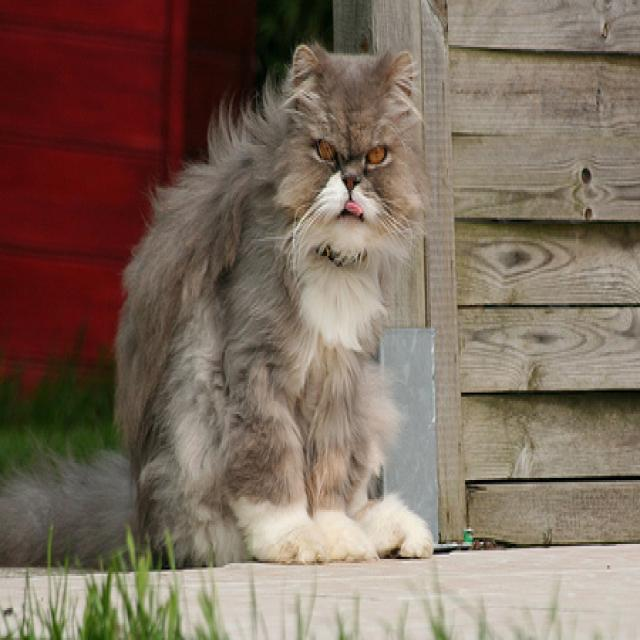Persian: (0, 39, 437, 568)
